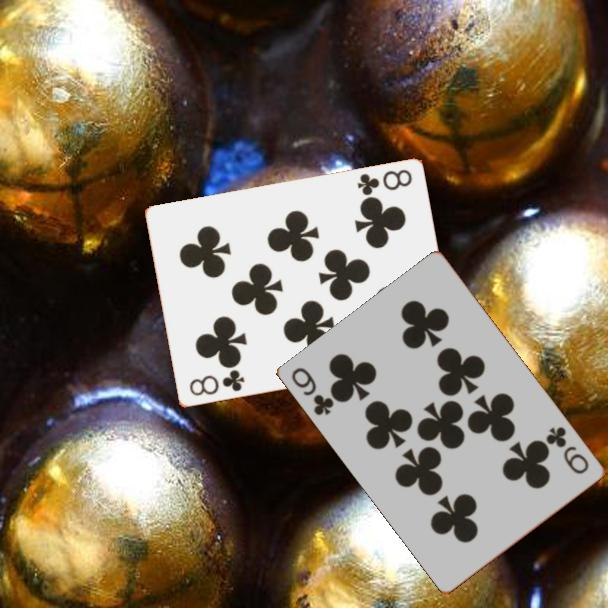c08: (353, 166, 415, 199), (186, 366, 247, 399)
c09: (288, 364, 337, 419), (543, 423, 592, 477)
